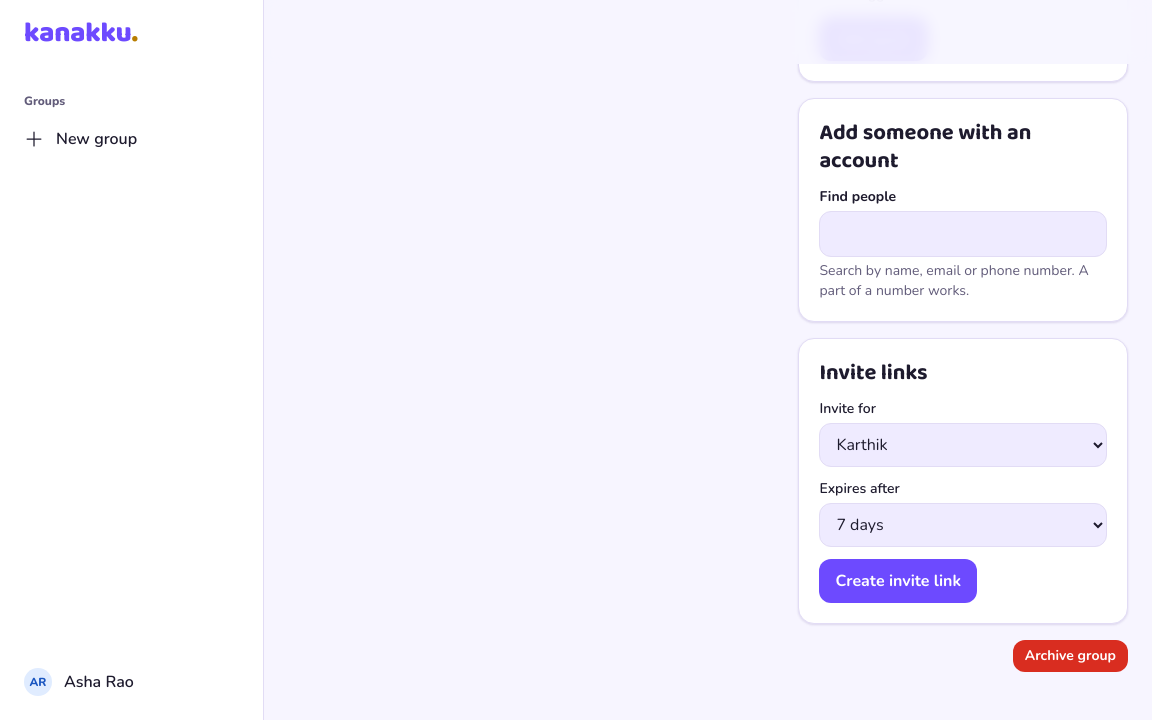
Test case: InvitesPanel › sends the expiry the Owner picks
(page scrolled)
Select "30 days" in the dropdown labelled "Expires after" at {"x": 963, "y": 525}, box [819, 503, 1107, 547]
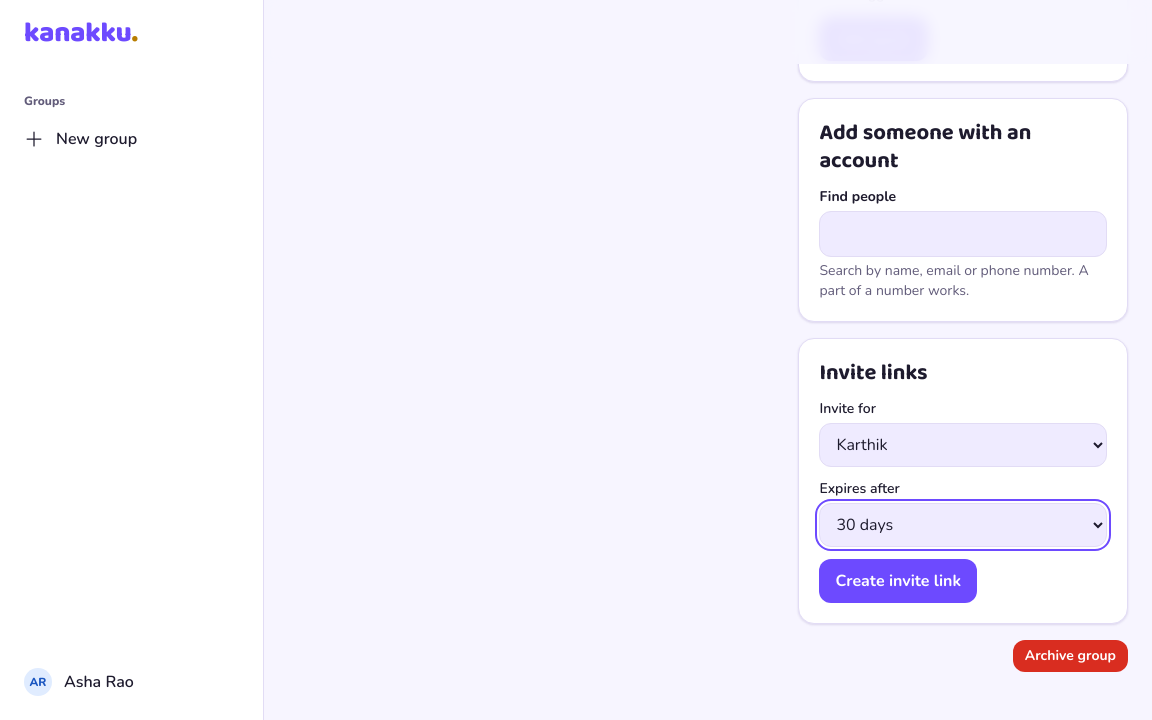
Click the button "Create invite link" at {"x": 898, "y": 581}, box [819, 559, 977, 603]
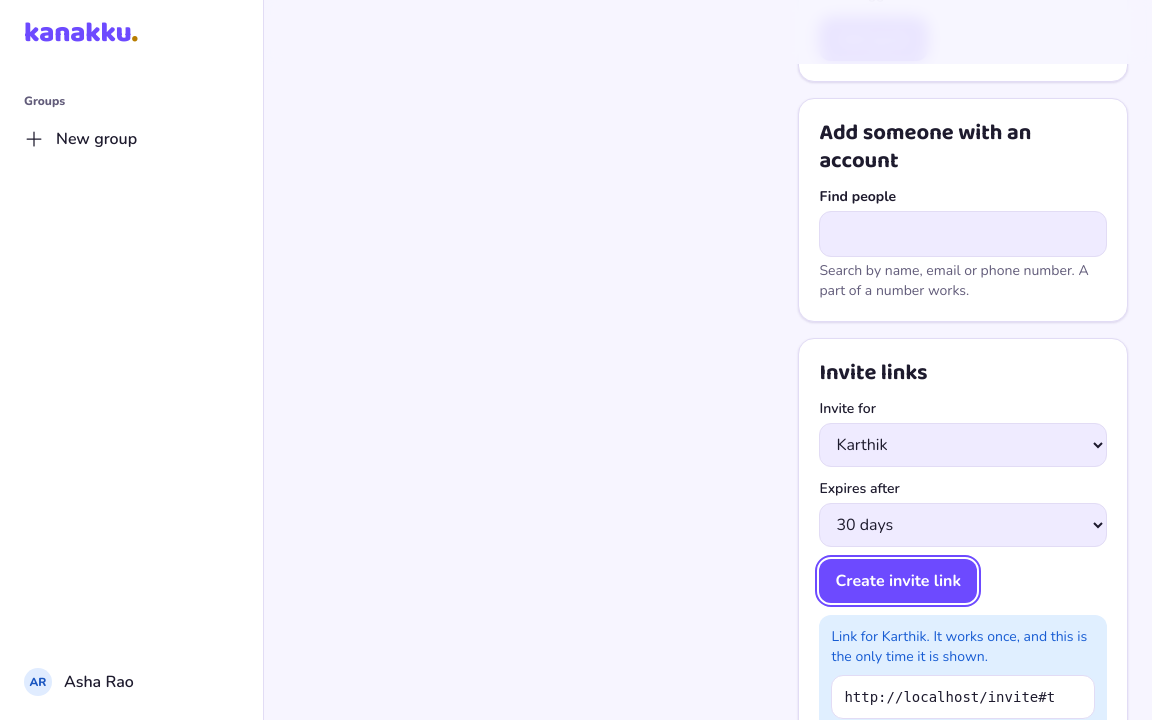
Now the field named "Invite link" is shown, box [831, 675, 1095, 719]
